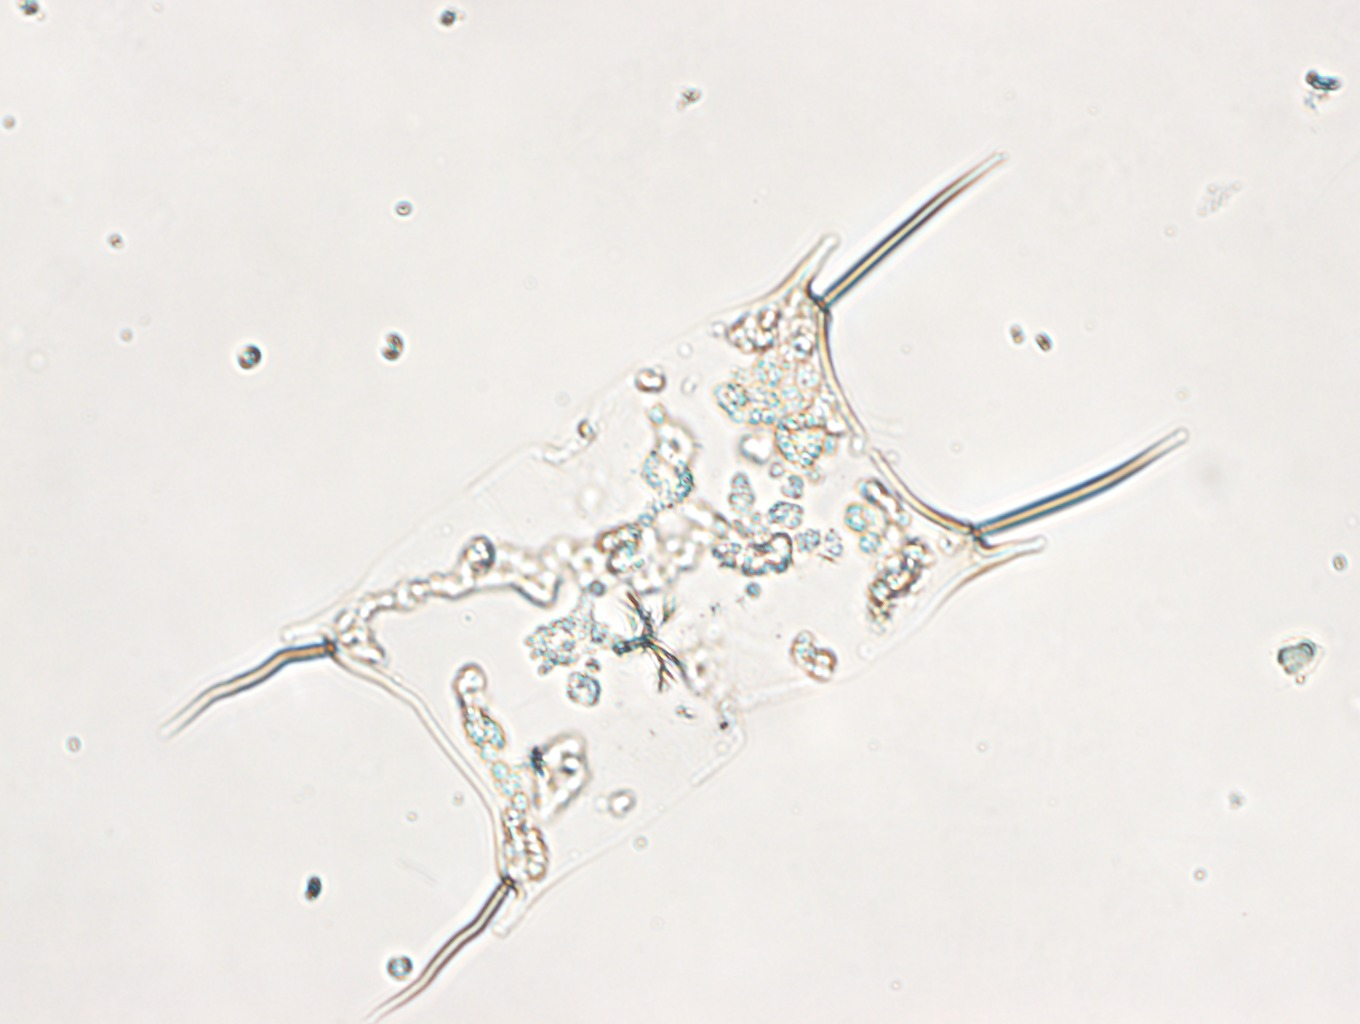biddulphia: (158, 150, 1188, 1022)
